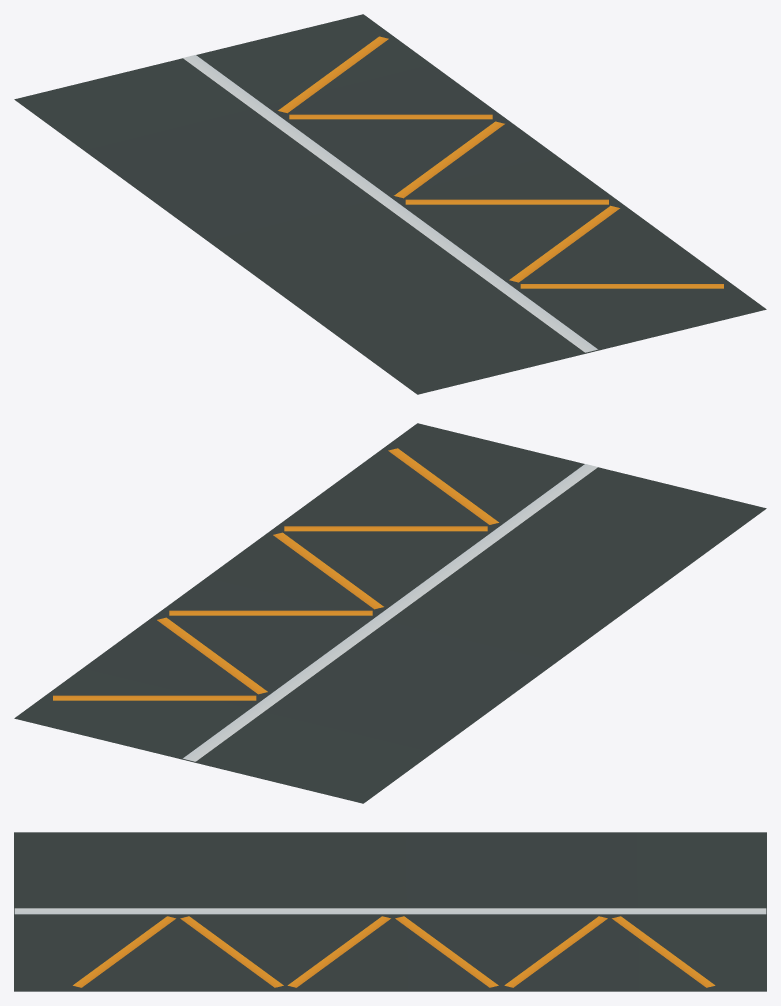
The model's file is Road_2_116.fbx.
The picture shows the model from 3 angles, top to bottom: view 1: azimuth 30°, elevation 25°; view 2: azimuth 150°, elevation 25°; view 3: azimuth 270°, elevation 25°; orthographic projection. The views are drawn at different scales.
Visible parts, largest first — view 1: Road_2_116; view 2: Road_2_116; view 3: Road_2_116.
Part boxes in pixels (bbox=[...]): Road_2_116: bbox=[14, 14, 766, 394]; Road_2_116: bbox=[14, 423, 766, 803]; Road_2_116: bbox=[14, 832, 766, 991].
Bounding box in the file's own units: 900 × 1.66 × 1800.
